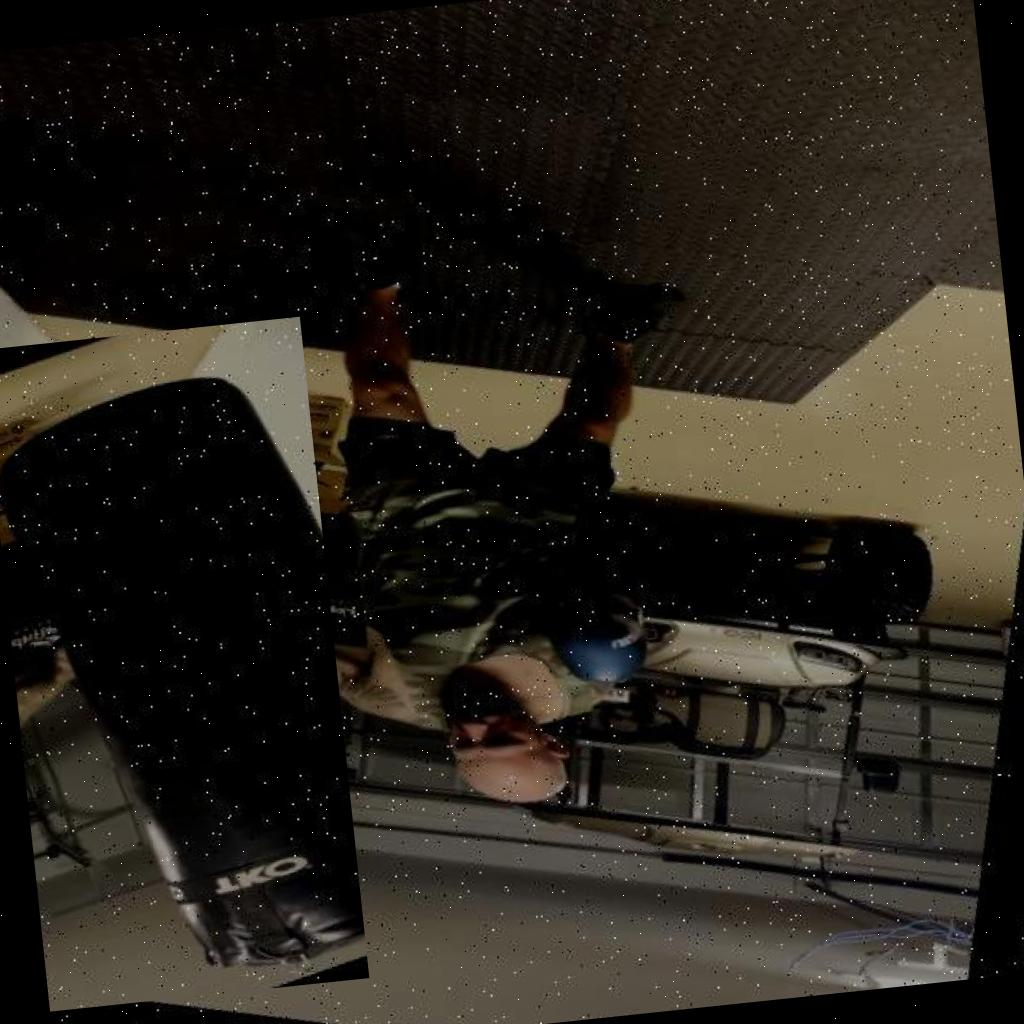bag: (0, 316, 369, 1011)
hook: (176, 466, 702, 900)
